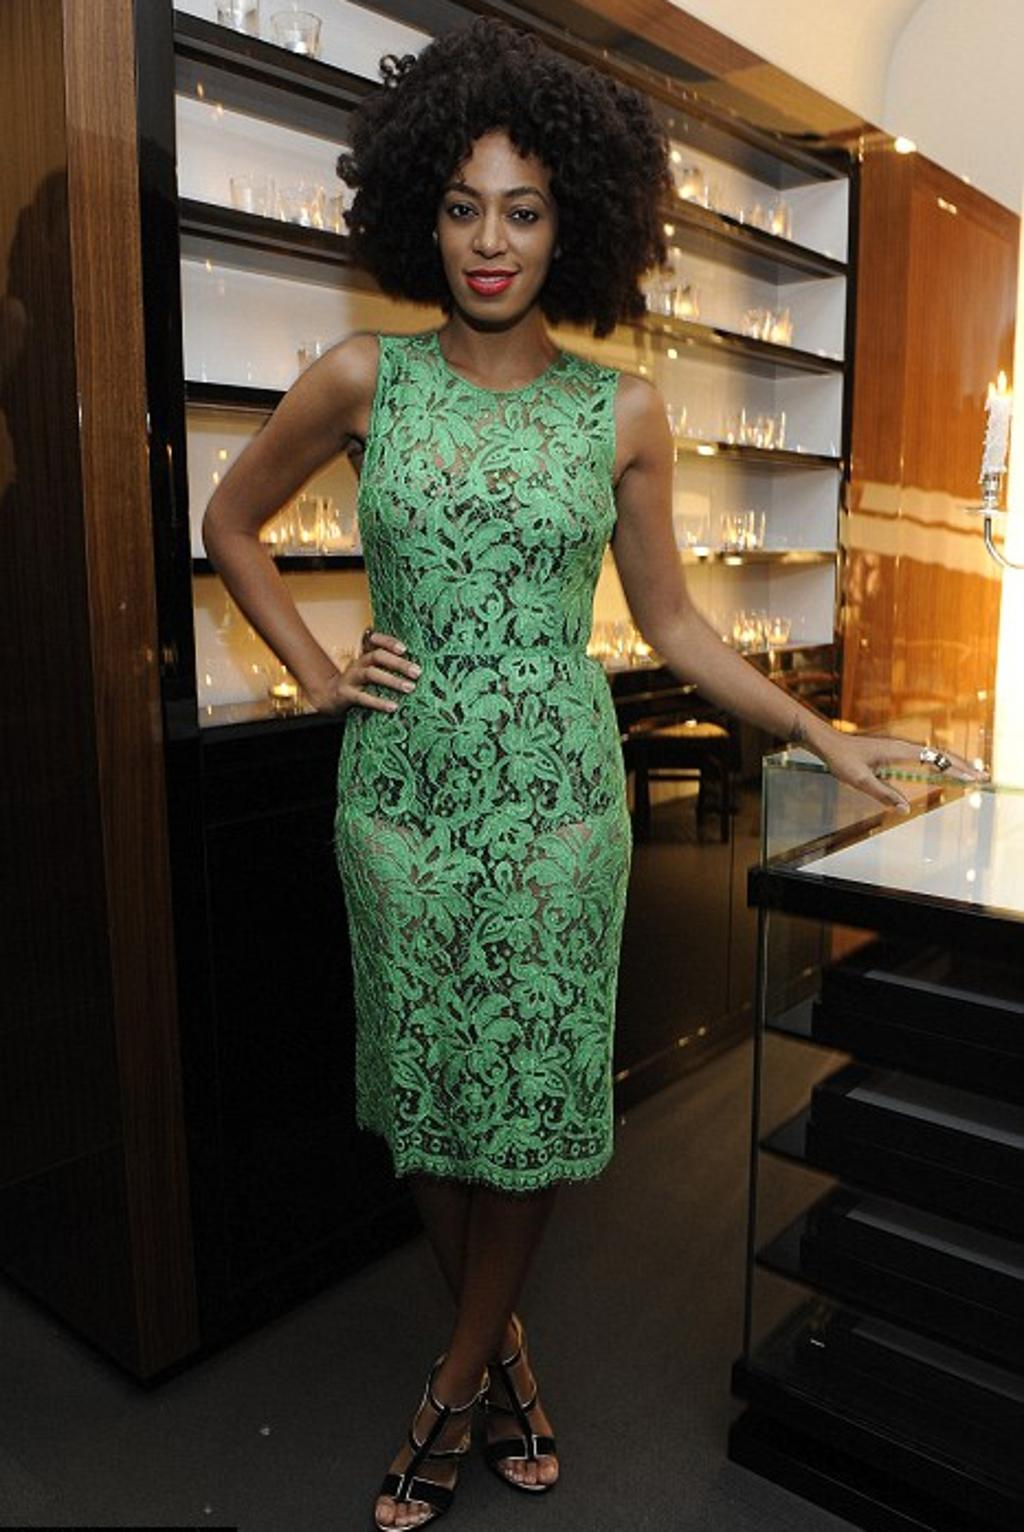face: (434, 123, 560, 327)
